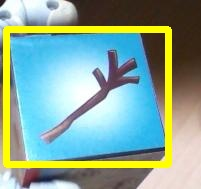Blue4: (6, 29, 168, 164)
